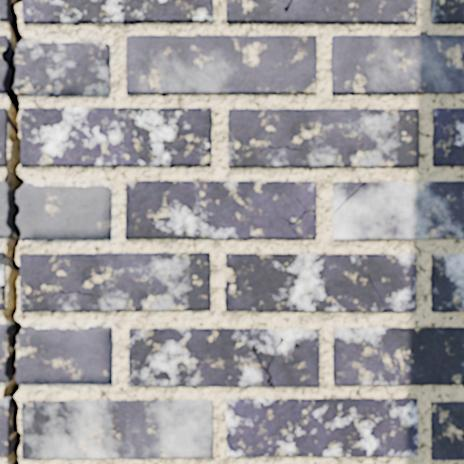brick: (227, 398, 417, 456), (22, 400, 212, 458), (127, 35, 316, 93), (228, 109, 418, 166), (21, 108, 211, 165), (126, 181, 316, 238), (20, 253, 209, 310), (226, 254, 416, 310), (129, 329, 319, 385), (331, 35, 463, 93), (333, 182, 463, 239), (333, 328, 463, 384), (226, 0, 416, 23), (23, 0, 212, 23), (431, 255, 463, 311), (432, 402, 463, 459), (433, 108, 463, 165), (333, 182, 362, 209), (431, 0, 463, 23), (0, 399, 8, 455), (0, 108, 6, 165), (0, 253, 4, 308), (0, 0, 6, 20)
broken_brick: (17, 325, 112, 384), (14, 37, 109, 96), (17, 182, 111, 240), (0, 180, 8, 238), (0, 323, 6, 382), (0, 58, 6, 93), (0, 34, 8, 52)
crack: (0, 0, 25, 463), (251, 335, 284, 386), (280, 206, 317, 238), (332, 181, 367, 214), (366, 273, 394, 311), (283, 0, 292, 12), (22, 416, 29, 424)
